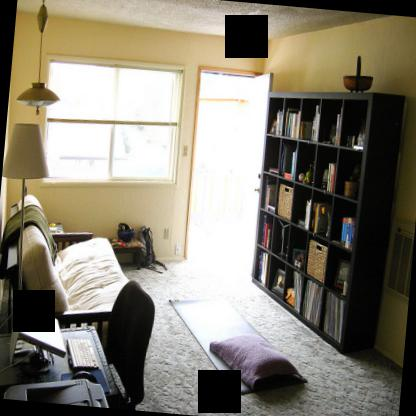backpack: (139, 226, 167, 274)
